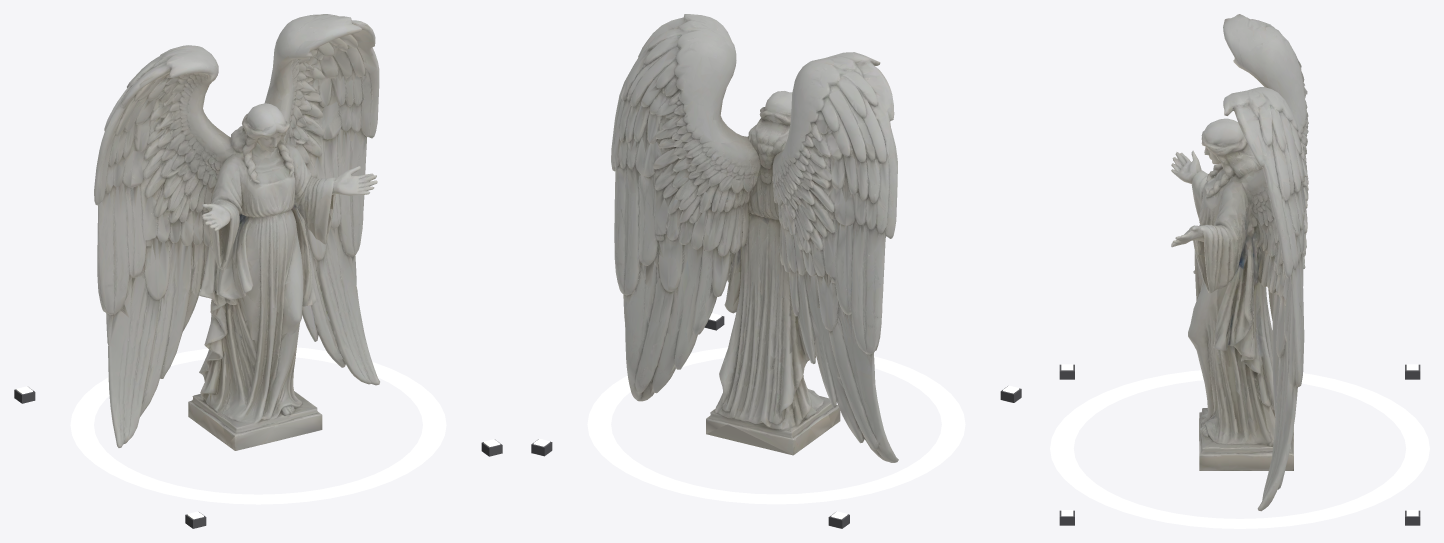
The model's file is m-angel-colossal.glb.
3 renders of one model, left to right at view 1: azimuth 30°, elevation 25°; view 2: azimuth 150°, elevation 25°; view 3: azimuth 270°, elevation 25°, orthographic.
Parts seen in each view (by area): view 1: Statue, Uplight; view 2: Statue, Uplight; view 3: Statue, Uplight.
Boxes of the visible parts, x1,y1,x2,y2 form: Statue: (94,14,379,450); Uplight: (14,347,502,528); Statue: (611,14,898,462); Uplight: (531,313,1021,528); Statue: (1171,14,1308,511); Uplight: (1050,364,1429,528).
Size of the model in its own units: 8.79 by 10 by 8.79.
Materials: 3 (1 with a texture image).
